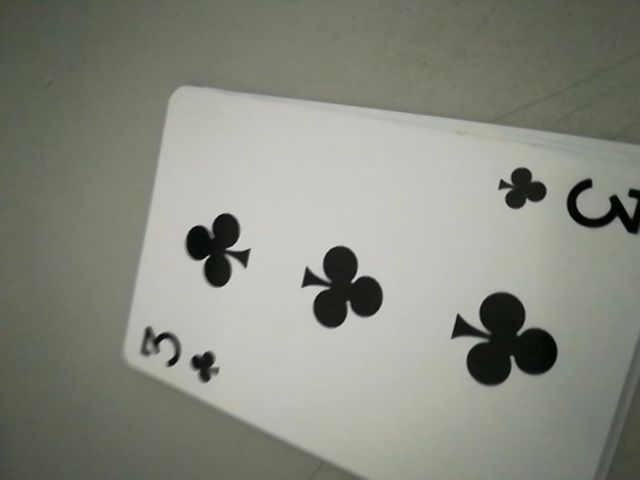mh 3: (494, 161, 640, 238), (132, 319, 228, 388)
